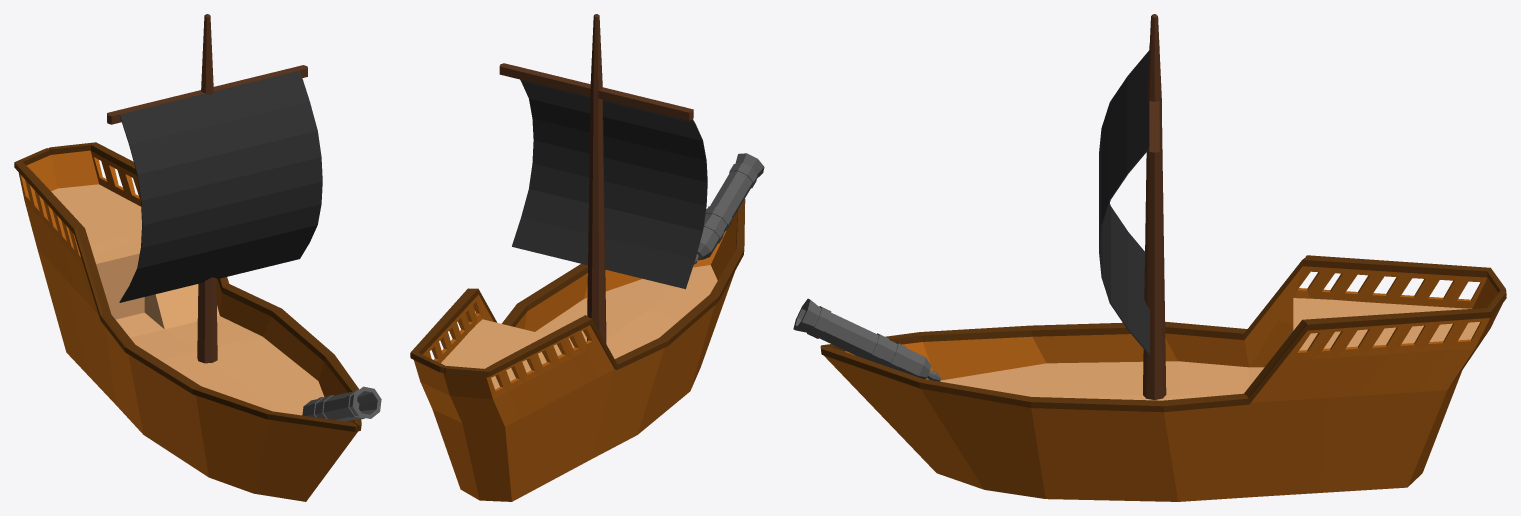
File: PirateShip.fbx
3 views of the same model, side by side, from view 1: azimuth 30°, elevation 25°; view 2: azimuth 150°, elevation 25°; view 3: azimuth 270°, elevation 25° (orthographic). The views are drawn at different scales.
Parts seen in each view (by area): view 1: Cube.004, Plane, Cube.005, Cylinder.008, Cylinder.009; view 2: Cube.004, Plane, Cube.005, Cylinder.008, Cylinder.009; view 3: Cube.004, Cube.005, Plane, Cylinder.008, Cylinder.009.
Part boxes in pixels (box(x1,y1,x2,y2)): Cube.004: box(18, 150, 357, 501); Plane: box(119, 70, 322, 302); Cube.005: box(14, 142, 361, 431); Cylinder.008: box(107, 14, 307, 363); Cylinder.009: box(302, 386, 381, 421); Cube.004: box(414, 211, 737, 501); Plane: box(512, 79, 707, 289); Cube.005: box(410, 199, 745, 377); Cylinder.008: box(499, 14, 693, 343); Cylinder.009: box(694, 153, 764, 264); Cube.004: box(824, 266, 1502, 501); Cube.005: box(820, 255, 1506, 412); Plane: box(1099, 50, 1149, 355); Cylinder.008: box(1143, 14, 1166, 399); Cylinder.009: box(793, 298, 941, 381).
Size of the model in its own units: 265 by 526 by 742.
